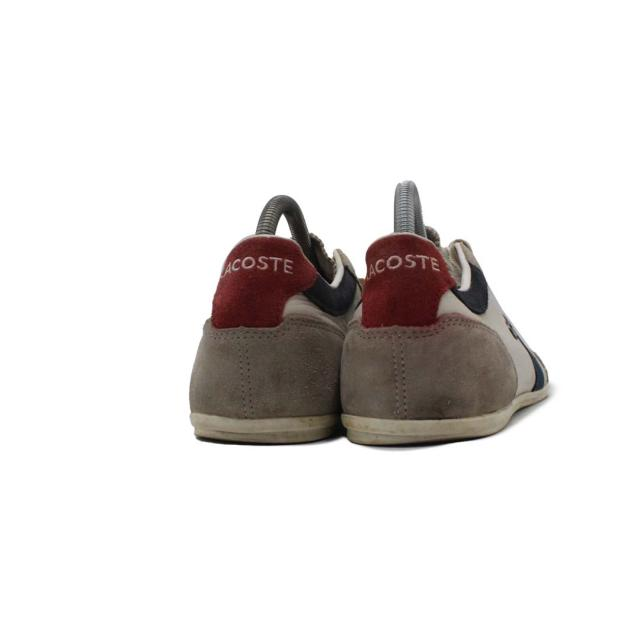heel: (353, 232, 502, 416), (202, 216, 332, 418)
midsole: (189, 413, 523, 445)
